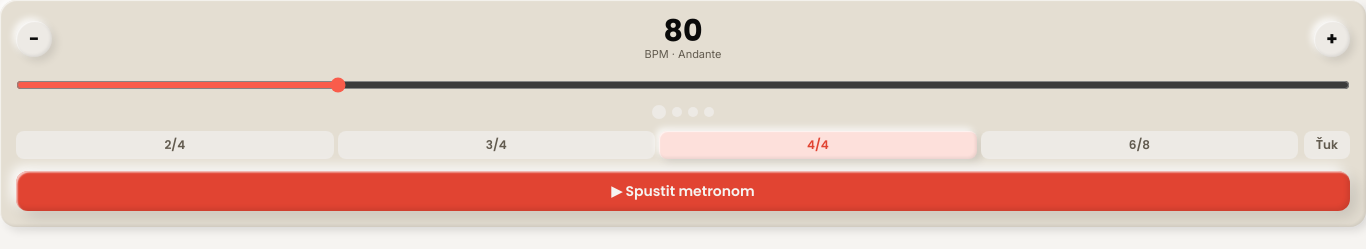
Scenario: Metronome › changes tempo with − / + and remembers it
This screenshot has width=1366, height=249.
Later steps or results of the test are not shown.
Expected: the text "80" is shown, [664,10,702,52]
Click the button named "Rychleji" at x=1332, y=39, box [1314,21,1350,57]
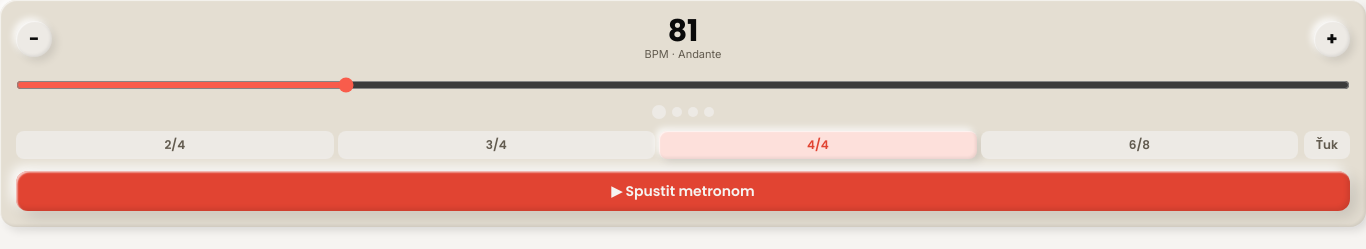
Click the button named "Rychleji" at x=1332, y=39, box [1314,21,1350,57]
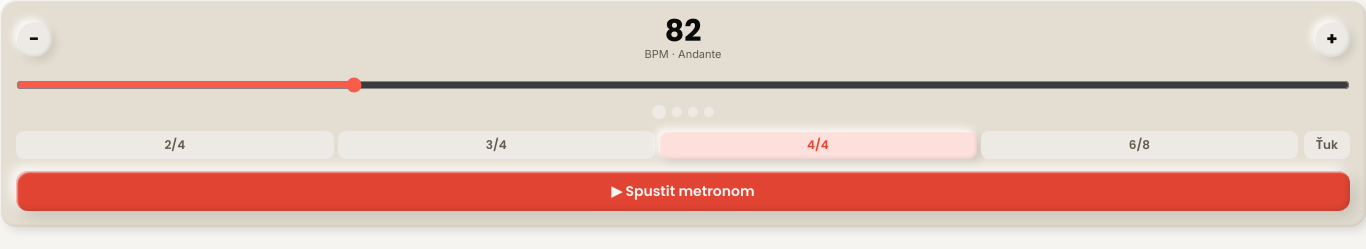
Expected: the text "82" is shown, [665,10,701,52]
